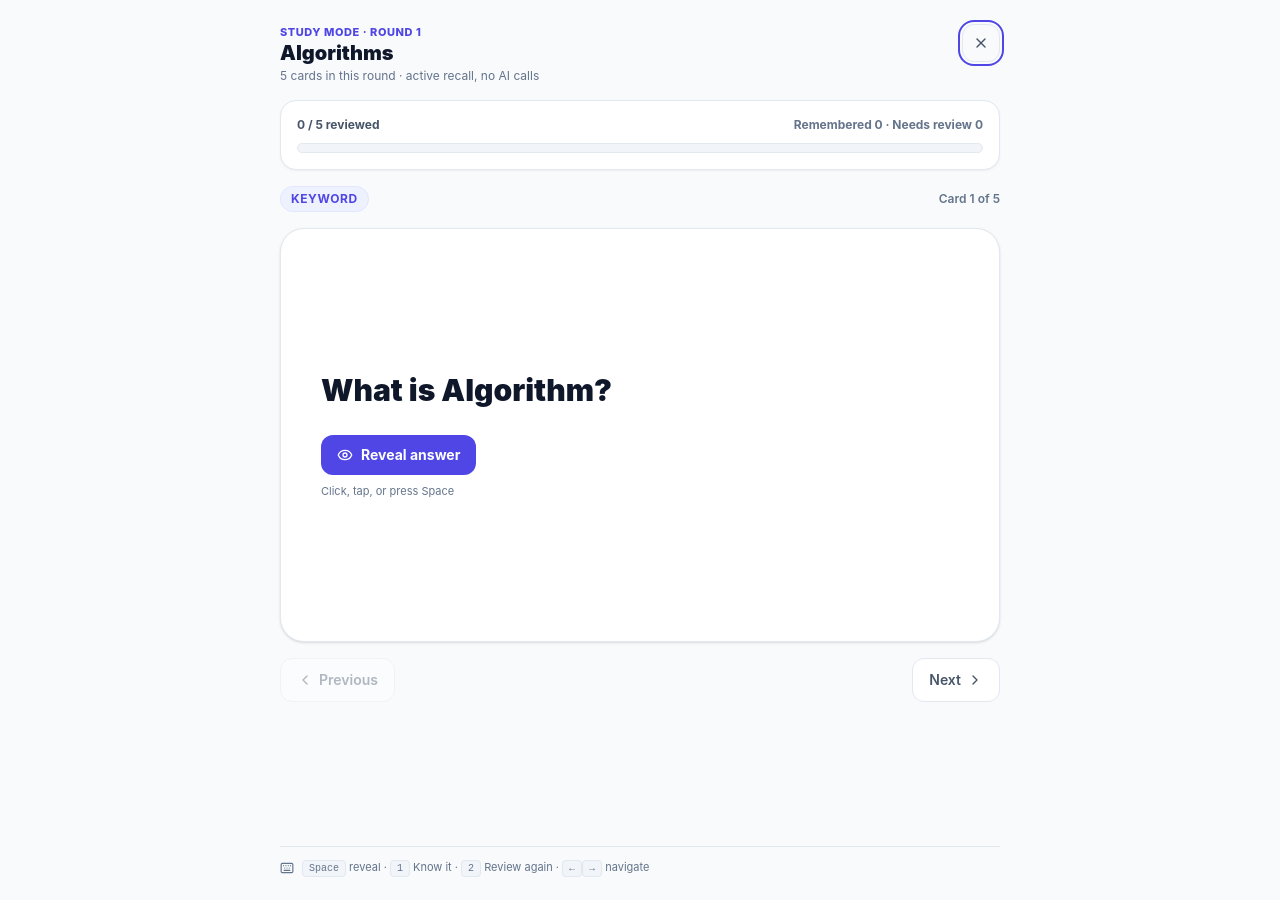
Test: shared content filtering and rendered surfaces › renders study mode and revealed answers from clean data
What coordinates should you click on to do the following:
click the button "What is Algorithm? Reveal answer Click, tap, or press Space"
I would click on:
 (467, 390)
Its box is [321, 370, 959, 499].
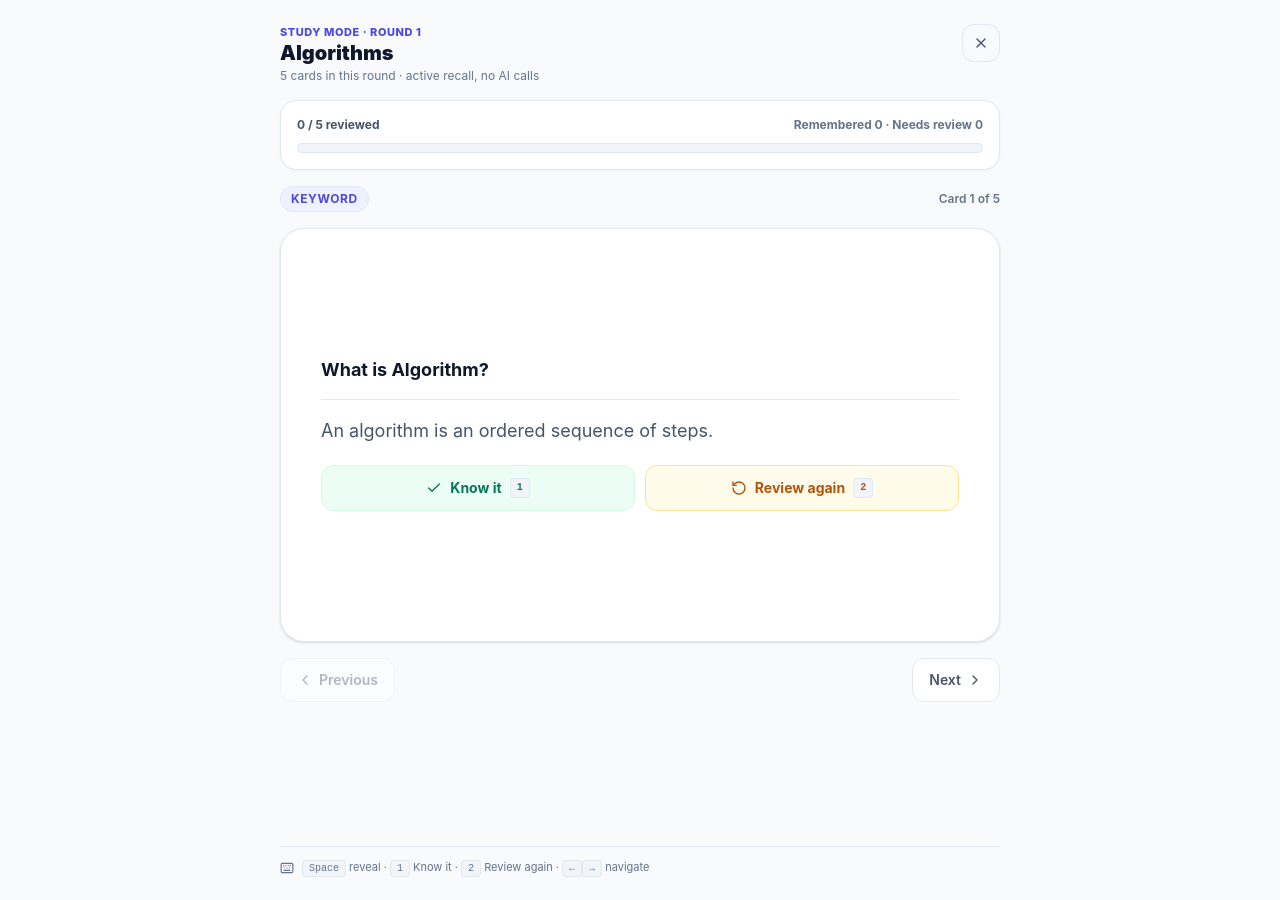
Result: the text "An algorithm is an ordered sequence of steps." is shown at [321, 420, 713, 441]
